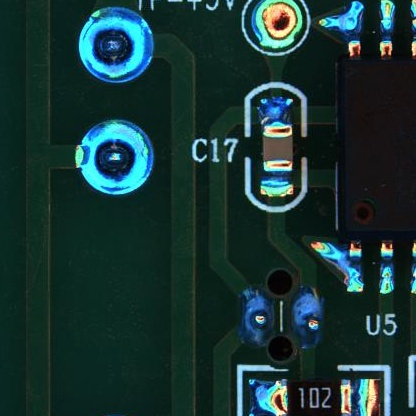spot: (79, 119, 155, 199), (78, 8, 154, 81), (288, 285, 329, 350), (253, 1, 303, 51), (238, 284, 273, 348)
